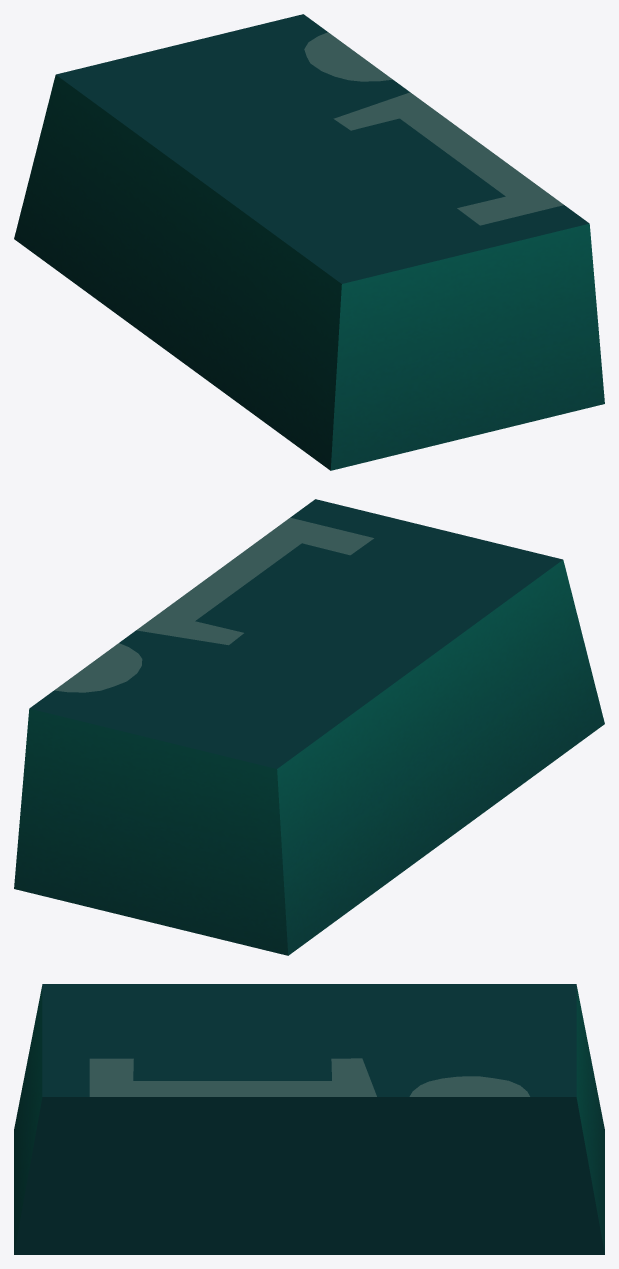
Rendered from BlockLeft.fbx.
3 views of the same model, one above another, from view 1: azimuth 30°, elevation 25°; view 2: azimuth 150°, elevation 25°; view 3: azimuth 270°, elevation 25° (orthographic). The views are drawn at different scales.
Visible parts, largest first — view 1: pCube11; view 2: pCube11; view 3: pCube11.
Boxes of the visible parts, x1,y1,x2,y2 form: pCube11: [14, 14, 604, 470]; pCube11: [14, 499, 604, 955]; pCube11: [14, 984, 604, 1254].
Size of the model in its own units: 0.2231 by 0.1315 by 0.4462.
Materials: 2 (1 with a texture image).
